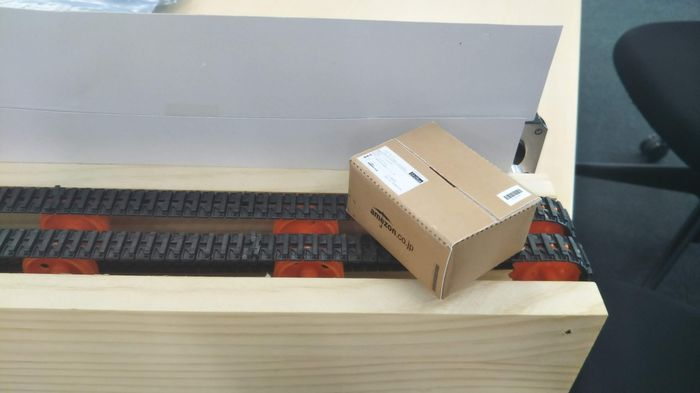box1: (343, 123, 538, 300)
